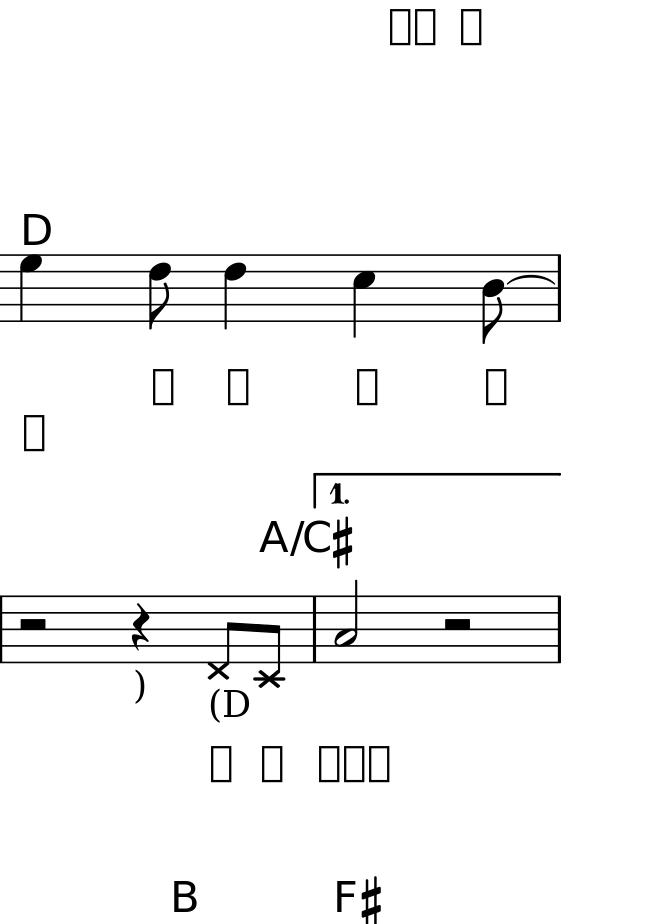2_3: (333, 578, 361, 669)
4_5: (349, 252, 377, 340)
4_6: (221, 252, 246, 334)
4_7: (15, 252, 42, 325)
8_4: (480, 251, 504, 348)
8_6: (146, 252, 174, 331)
Prima_volta: (310, 469, 569, 509)
Rests2: (438, 615, 481, 635), (18, 616, 52, 638)
Rests4: (130, 602, 153, 654)
Sharp: (358, 877, 383, 924), (333, 517, 352, 567)
Single_barline: (545, 596, 571, 662), (303, 595, 328, 662), (549, 255, 568, 321), (509, 273, 558, 288)
